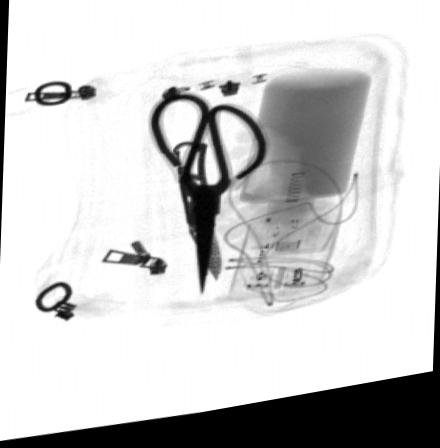Knife: (172, 147, 221, 289)
Scissors: (149, 100, 268, 301)
